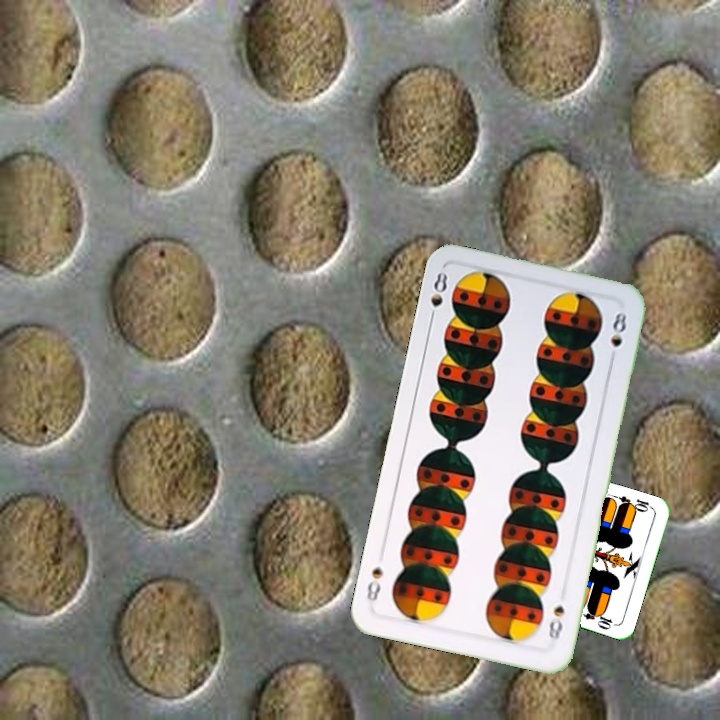E10: (615, 491, 655, 515)
S8: (425, 266, 450, 325), (544, 601, 567, 643)
